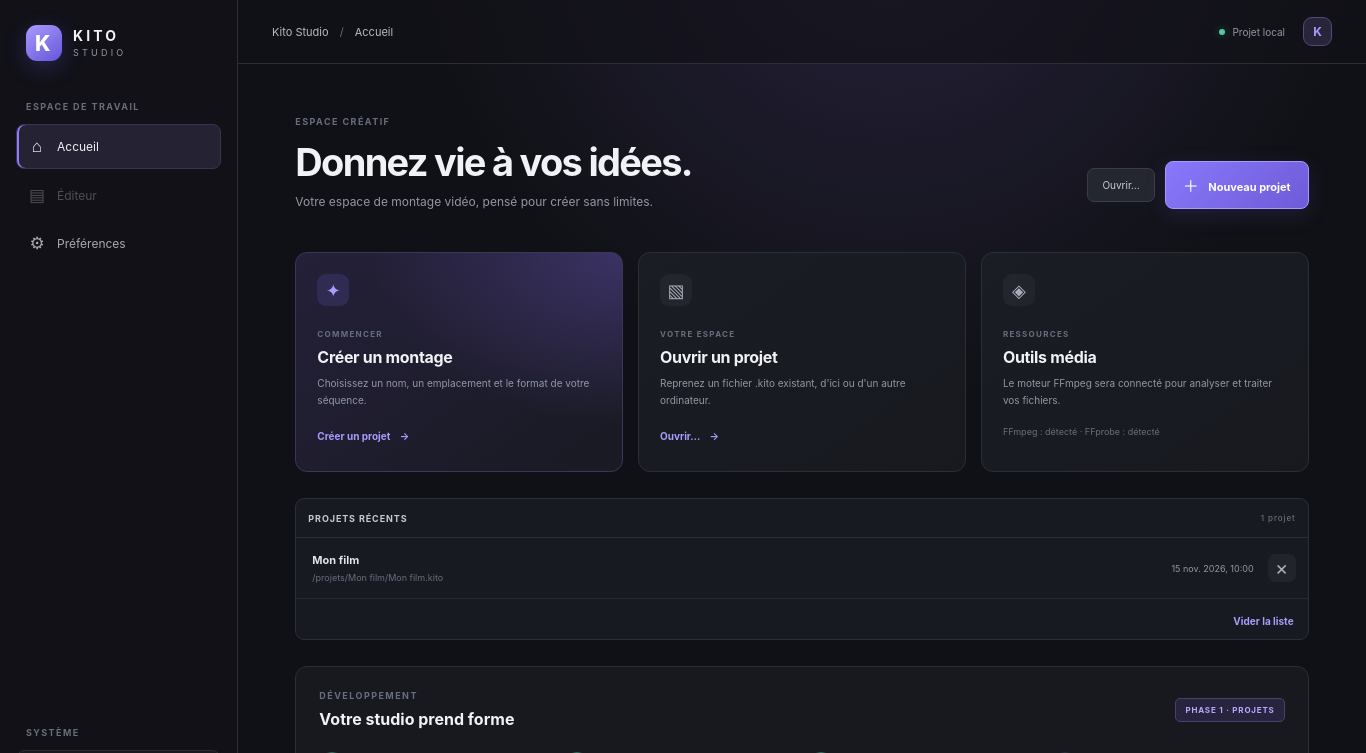
Test: ouverture › ouvre un projet récent et affiche son vrai contenu
The image size is (1366, 753).
Step 1. Click the text "Mon film" → point(336, 560), box [312,553,359,567]
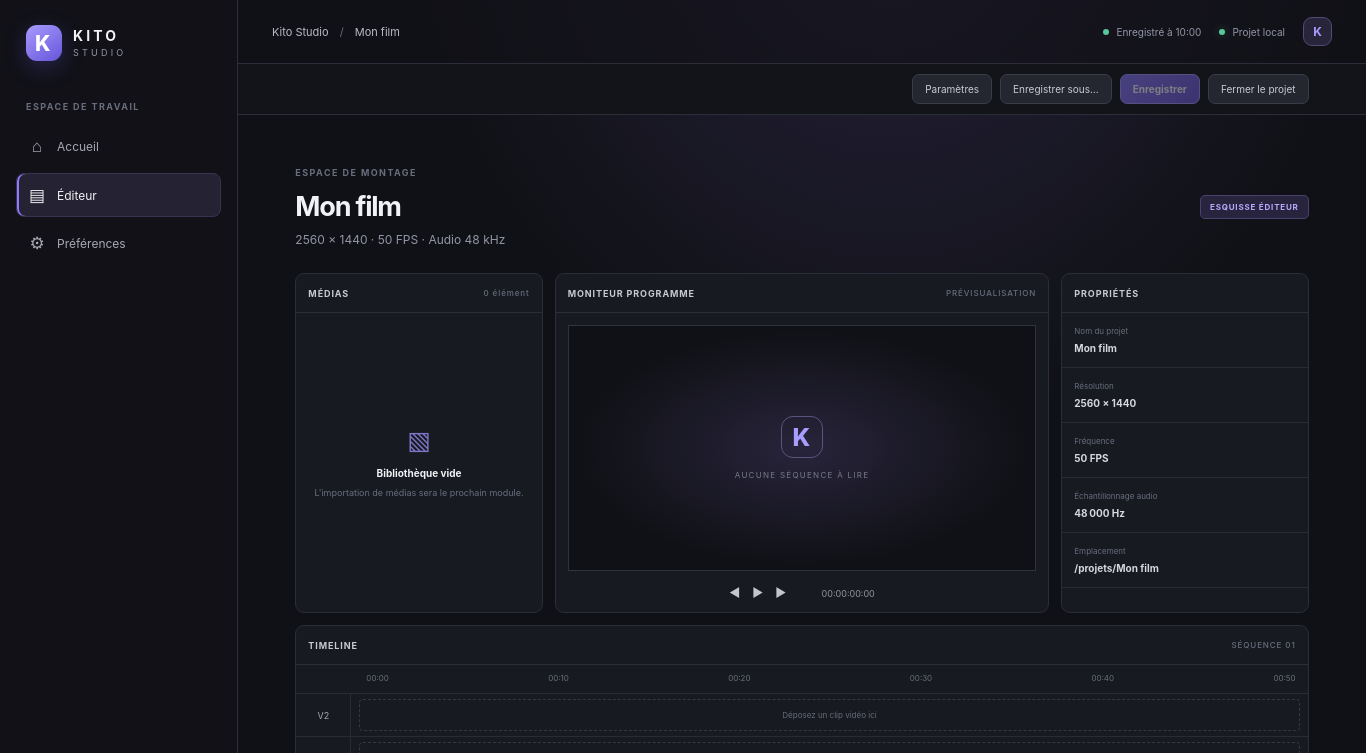
Check: the heading "Mon film" is shown, box [295,190,401,223]
Check: the text "2560 × 1440 · 50 FPS · Audio 48 kHz" is shown, box [295,232,505,247]
